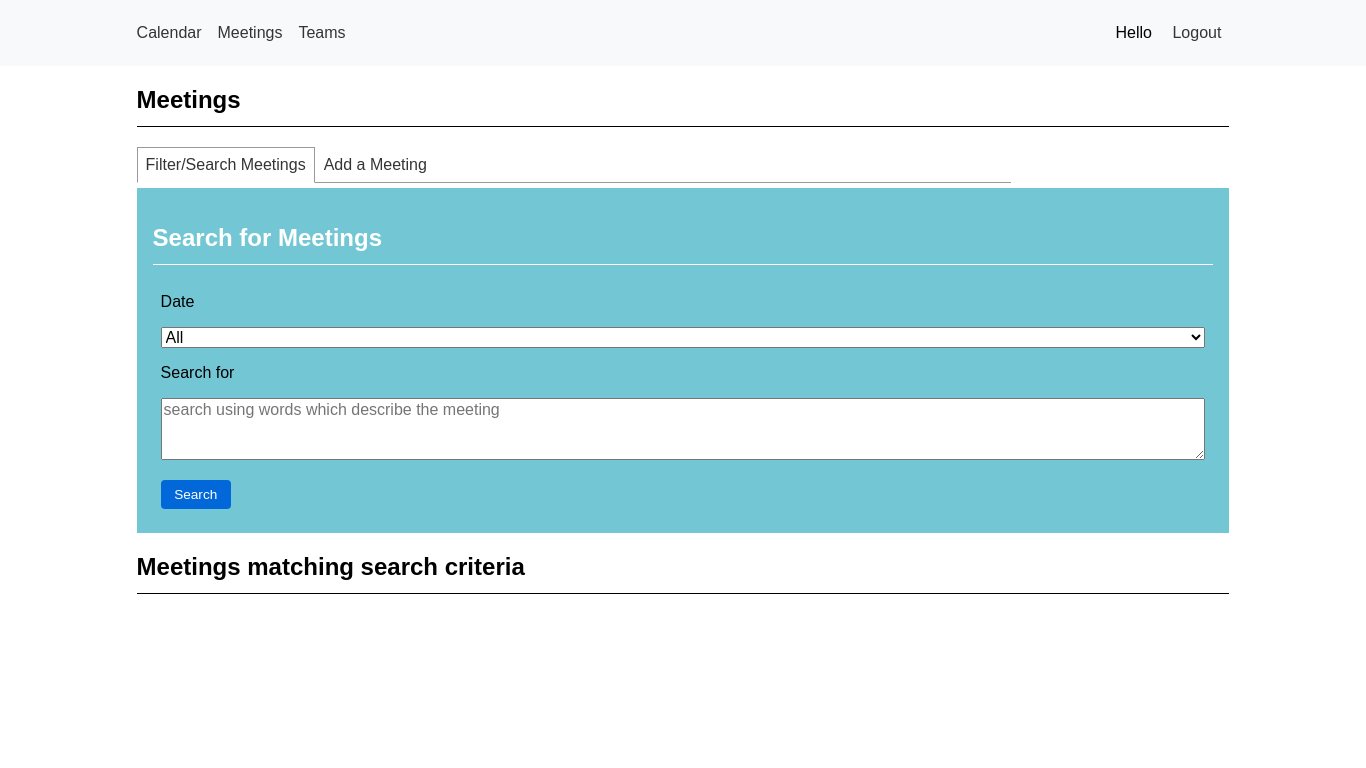
should fetch and load the meeting
This screenshot has width=1366, height=768.
Click the button "Search".
click(196, 494)  # box [161,480,231,509]
(page scrolled)
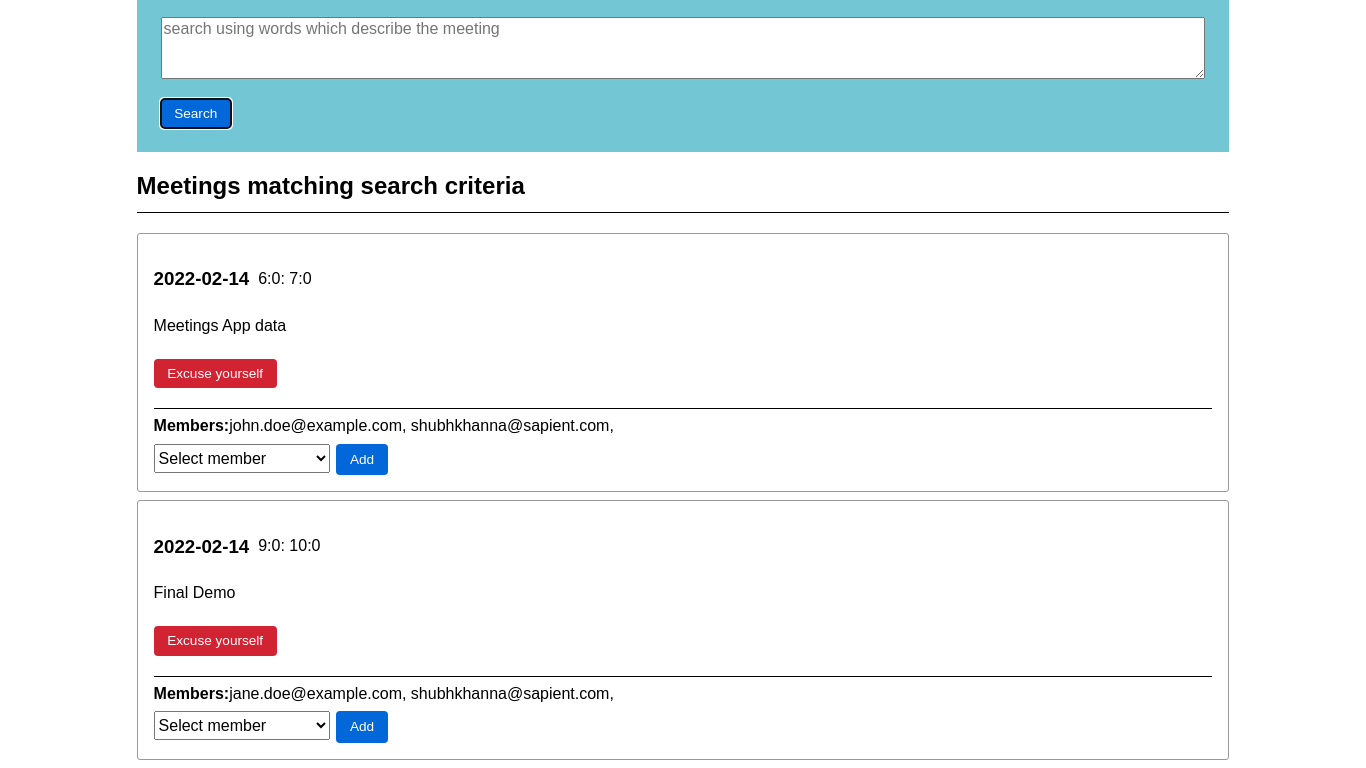
Expected: the text "Final Demo" is shown, [154,584,235,601]
